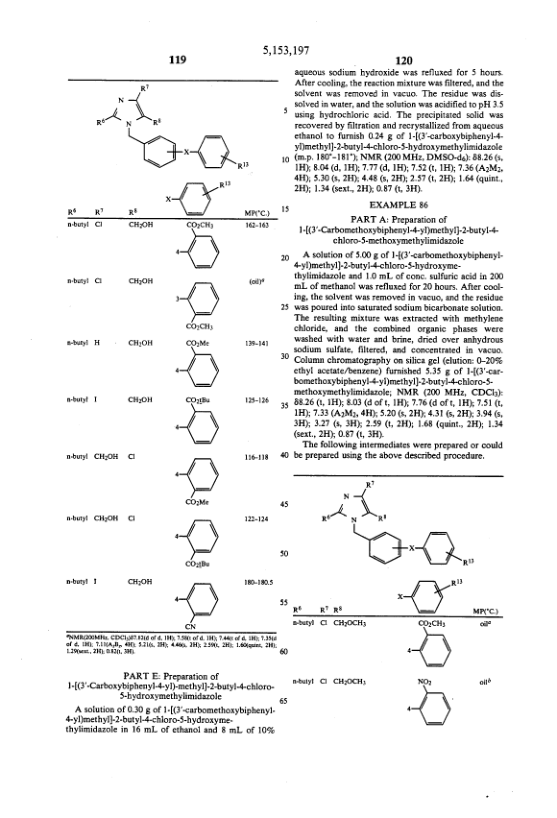compound-structure: (88, 76, 257, 174), (315, 479, 478, 569), (369, 576, 475, 616), (398, 621, 469, 668), (171, 277, 231, 332), (173, 453, 226, 508), (172, 516, 224, 571), (169, 222, 225, 270), (162, 177, 236, 213), (173, 339, 224, 390), (403, 678, 455, 728), (172, 576, 220, 628), (174, 396, 223, 446)
